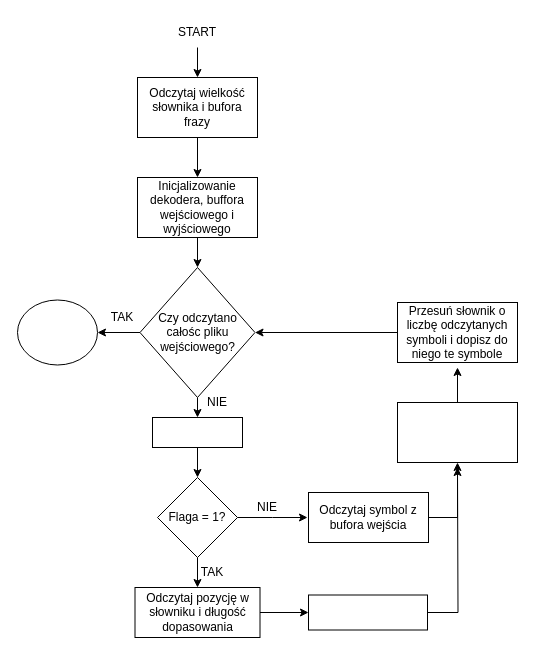
Image size: 535x655. Some labels were removed from this diagram. Each missing label, with the centre of its shape:
"KONIEC" goes at (x=57, y=332).
"Odczytaj flagę" goes at (x=197, y=432).
"Odczytaj symbole ze słownika" goes at (x=368, y=612).
"Zapisz odczytane symbole do bufora wyjściowego" goes at (x=457, y=432).
